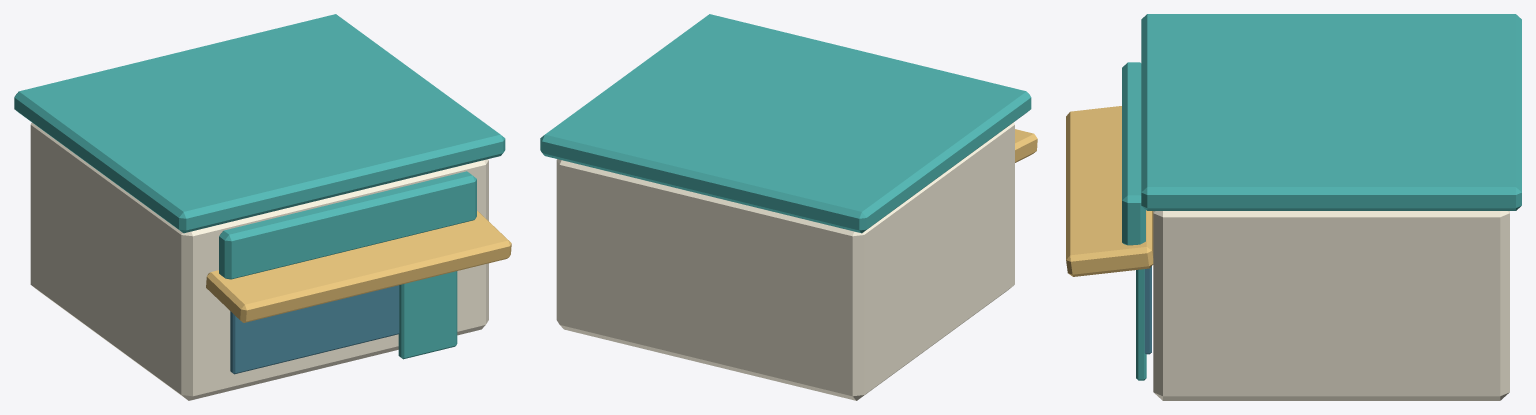
Rendered from COM_LOW_1x1_002.glb.
The picture shows the model from 3 angles, left to right: view 1: azimuth 30°, elevation 25°; view 2: azimuth 150°, elevation 25°; view 3: azimuth 270°, elevation 25°; orthographic projection. The views are drawn at different scales.
Parts seen in each view (by area): view 1: COM_LOW_1x1_002_Visual; view 2: COM_LOW_1x1_002_Visual; view 3: COM_LOW_1x1_002_Visual.
Part boxes in pixels (<box>): COM_LOW_1x1_002_Visual: <box>14,14,511,400</box>; COM_LOW_1x1_002_Visual: <box>540,14,1037,400</box>; COM_LOW_1x1_002_Visual: <box>1066,14,1521,400</box>.
Size of what is drawn, in the model's own units: 1.75 by 1.01 by 1.89.
